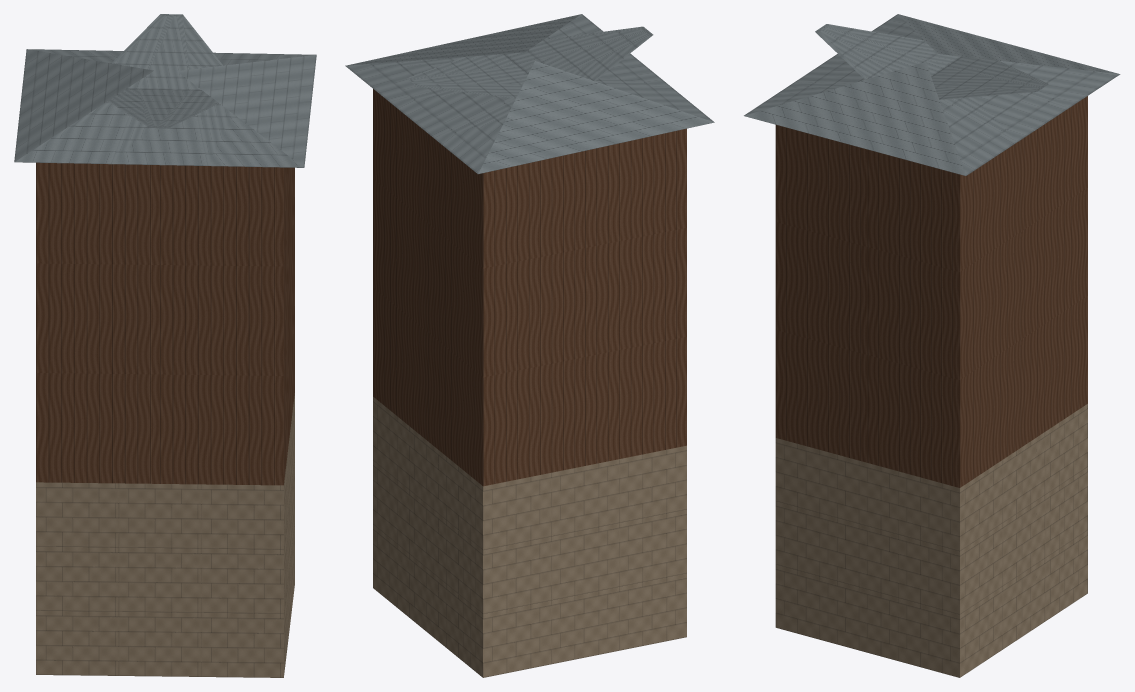
Rendered from bld_c-13_26_476.gltf.
The picture shows the model from 3 angles, left to right: view 1: azimuth 30°, elevation 25°; view 2: azimuth 150°, elevation 25°; view 3: azimuth 270°, elevation 25°; orthographic projection.
Parts seen in each view (by area): view 1: bld_c-13_26_476; view 2: bld_c-13_26_476; view 3: bld_c-13_26_476.
Part boxes in pixels (box(x1,y1,x2,y2)): bld_c-13_26_476: box(14, 14, 316, 677); bld_c-13_26_476: box(345, 14, 714, 677); bld_c-13_26_476: box(744, 14, 1120, 677).
Size of the model in its own units: 9.34 by 14.8 by 9.18.
3 materials, 3 textured.
